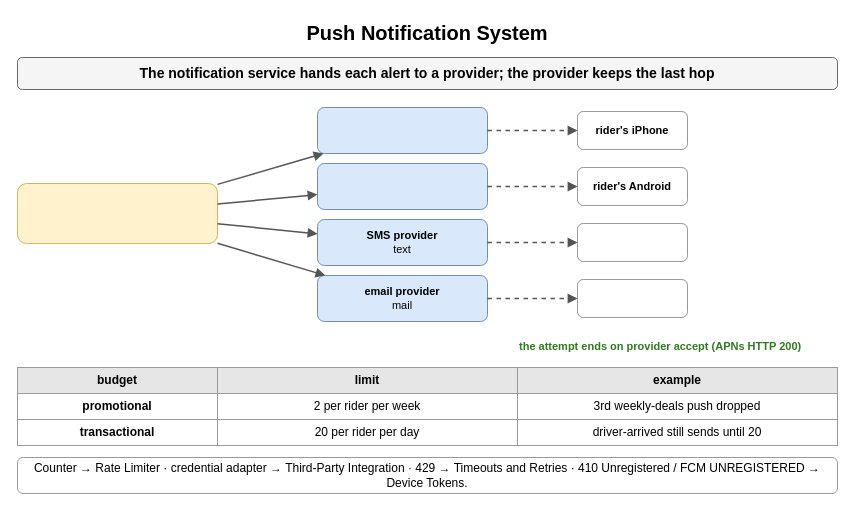
Image size: 855x511. Some labels were removed from this diagram. The centre of each missing label's shape, as x and y in pixels:
APNs iOS: the point at 402,130
FCM Android: the point at 402,186
inbox: the point at 632,298
notification service adapter holds the APNs / FCM credential: the point at 117,213
phone number: the point at 632,242
